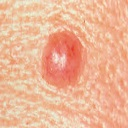Melanoma: (38, 29, 88, 89)
